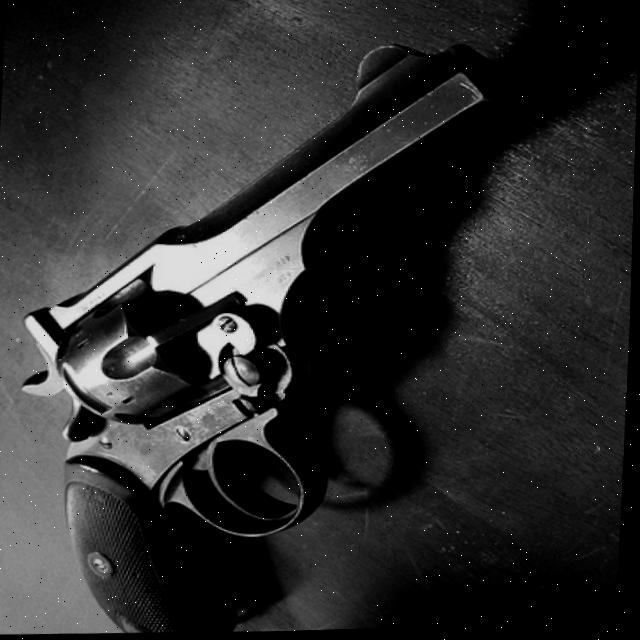pistol: (3, 32, 529, 640)
